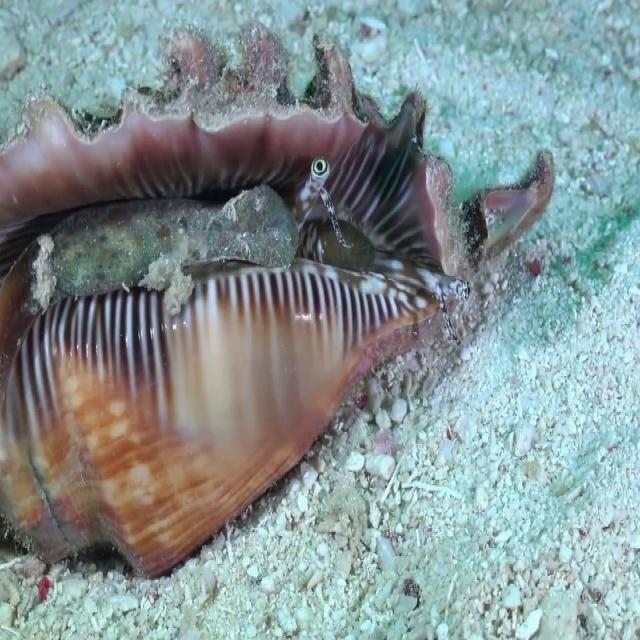reefs: (0, 17, 551, 578)
